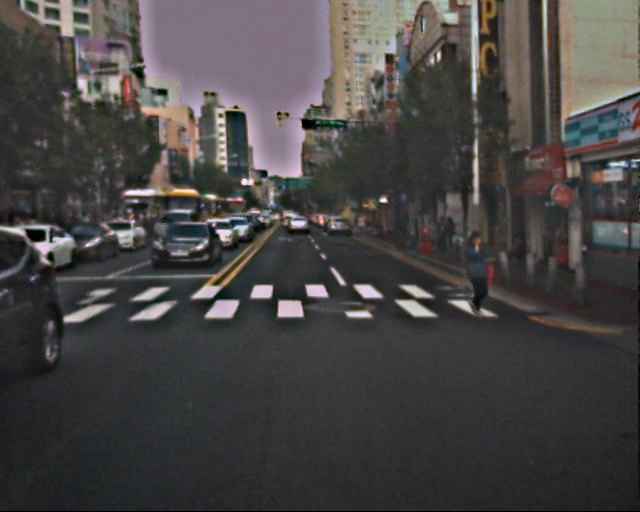person: (452, 233, 486, 315), (429, 221, 459, 250), (507, 234, 530, 263)
